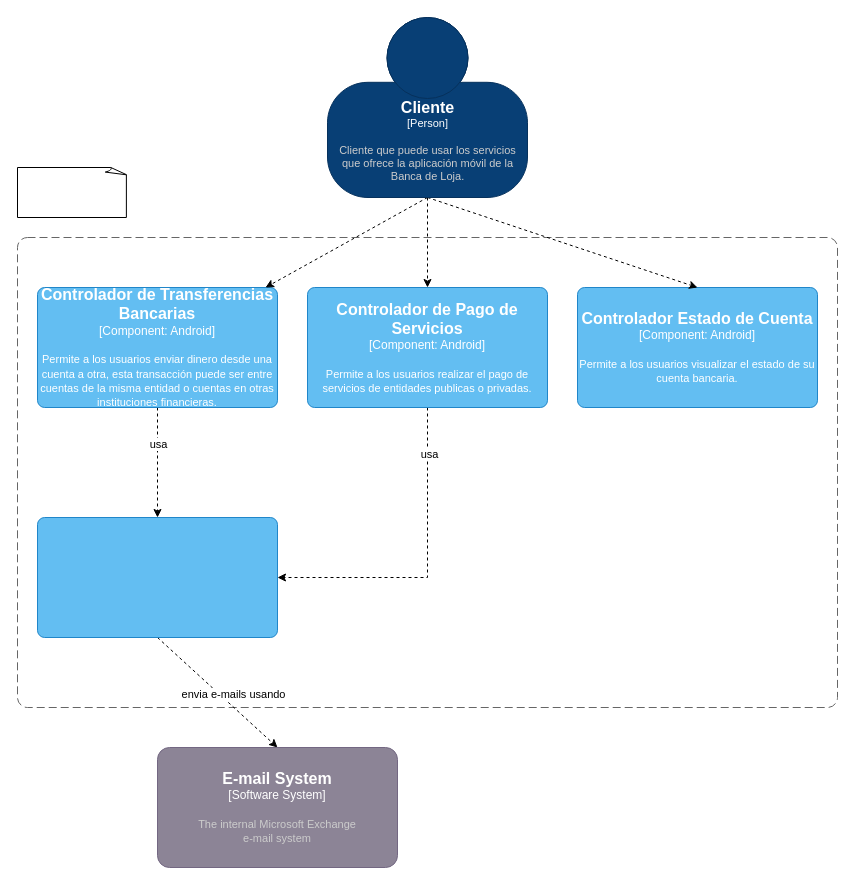
This 855x885 diagram has some shape labels left out. The box of each missing label's shape, as (x1, y1, x2, y2) in pixels:
Aplicacion movil [Container]: (16, 236, 838, 708)
E-mail [Component: Android] Permite enviar correos electronicos a los usuarios: (36, 516, 278, 638)
Pablo Serrano: (16, 166, 128, 218)
